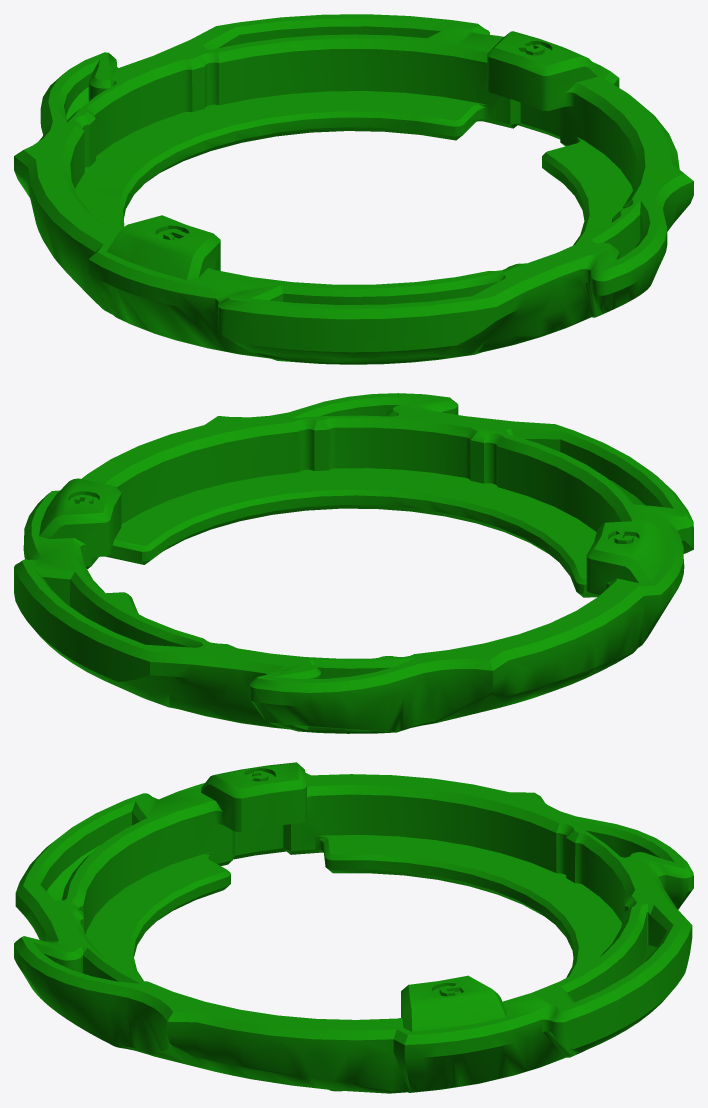
File: GGlaive.obj
3 views of the same model, one above another, from view 1: azimuth 30°, elevation 25°; view 2: azimuth 150°, elevation 25°; view 3: azimuth 270°, elevation 25° (orthographic). The views are drawn at different scales.
Parts seen in each view (by area): view 1: Mesh_3694out; view 2: Mesh_3694out; view 3: Mesh_3694out.
Part boxes in pixels (box(x1,y1,x2,y2)): Mesh_3694out: box(14, 14, 693, 364); Mesh_3694out: box(14, 393, 693, 733); Mesh_3694out: box(14, 762, 693, 1093).
Bounding box in the file's own units: 0.4346 × 0.068 × 0.4594.
1 material, 1 textured.
